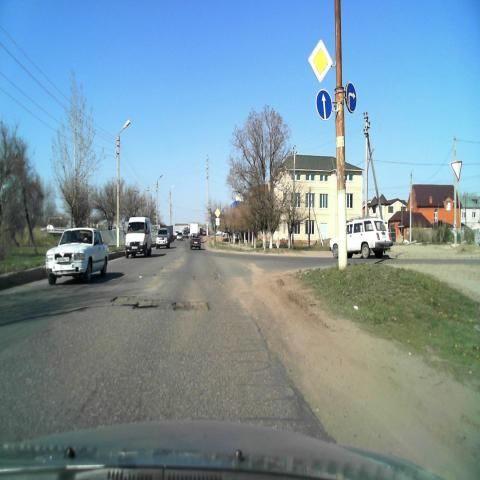4_1_1: (314, 89, 332, 121)
4_1_2: (344, 80, 358, 114)
